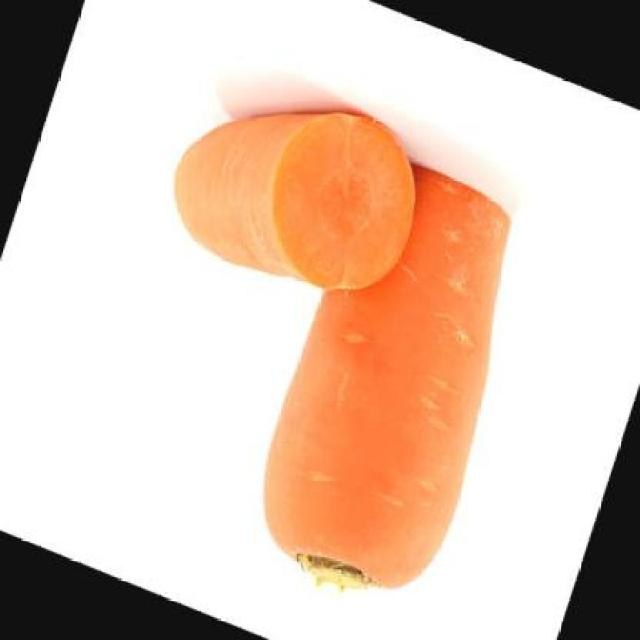carrot: (232, 142, 550, 628), (154, 51, 438, 322)
